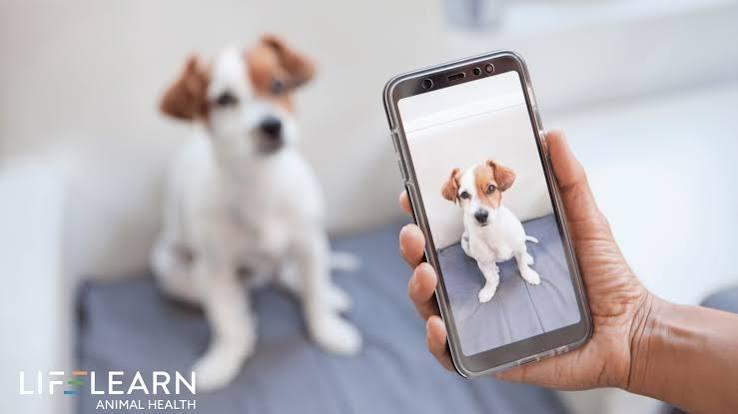puppy-dog: (147, 31, 367, 400), (440, 159, 542, 304)
